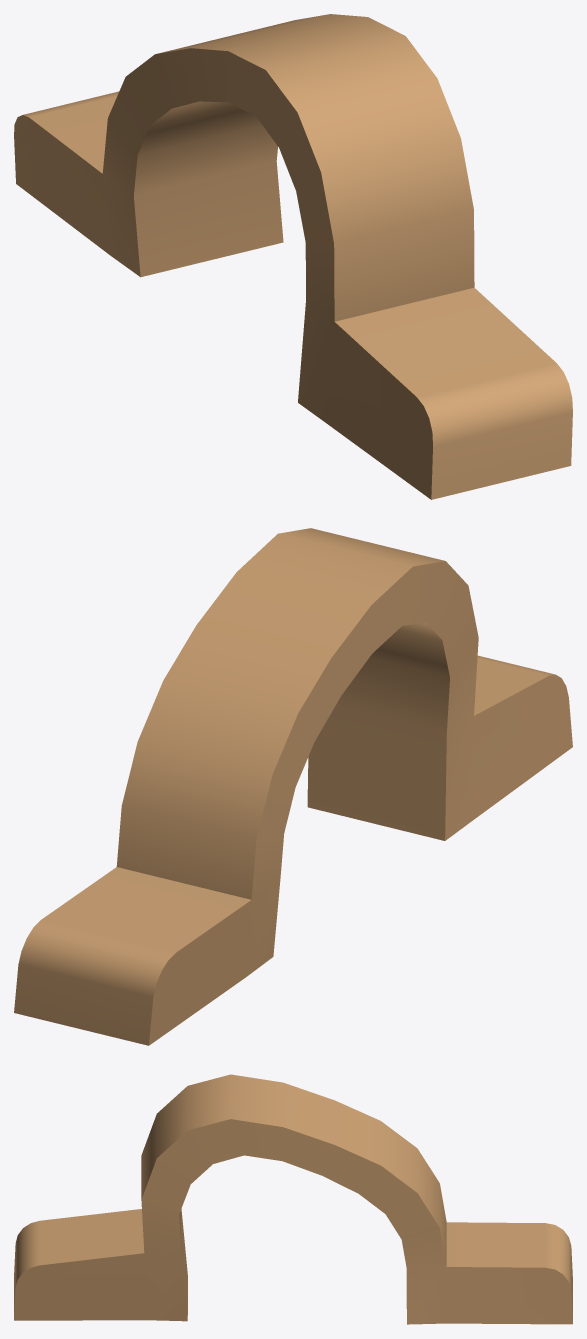
Rendered from large_archway.fbx.
The picture shows the model from 3 angles, top to bottom: view 1: azimuth 30°, elevation 25°; view 2: azimuth 150°, elevation 25°; view 3: azimuth 270°, elevation 25°; orthographic projection. The views are drawn at different scales.
Parts seen in each view (by area): view 1: pCylinder3; view 2: pCylinder3; view 3: pCylinder3.
Boxes of the visible parts, left/top/right/bottom form: pCylinder3: left=14, top=14, right=572, bottom=499; pCylinder3: left=14, top=528, right=572, bottom=1045; pCylinder3: left=14, top=1074, right=572, bottom=1324.
Size of the model in its own units: 706 by 1353 by 3400.
